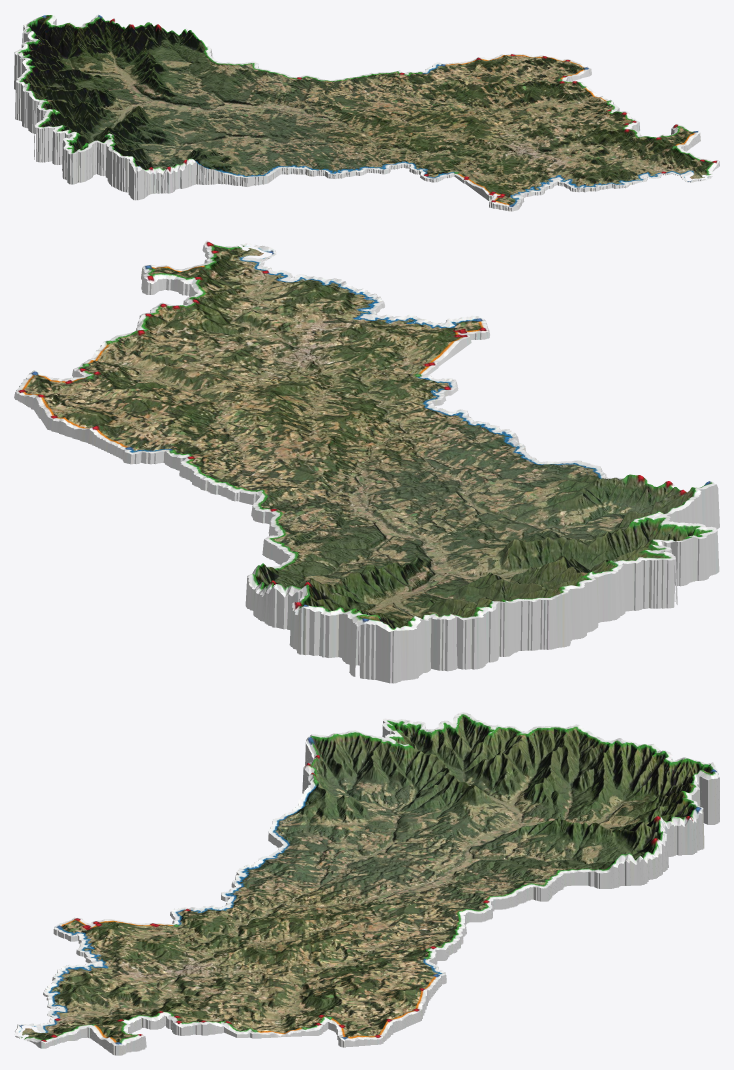
The picture shows the model from 3 angles, top to bottom: view 1: azimuth 30°, elevation 25°; view 2: azimuth 150°, elevation 25°; view 3: azimuth 270°, elevation 25°; orthographic projection. The views are drawn at different scales.
Bounding box in the file's own units: 0.9998 × 0.0743 × 0.9828.
1 material, 1 textured.
